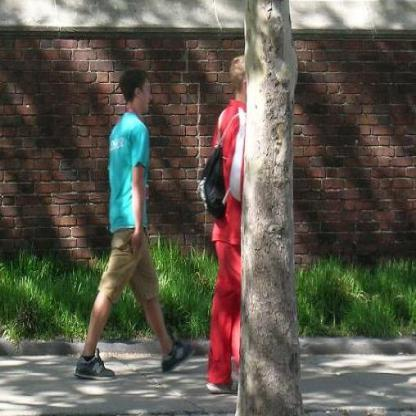person: (68, 62, 196, 376)
